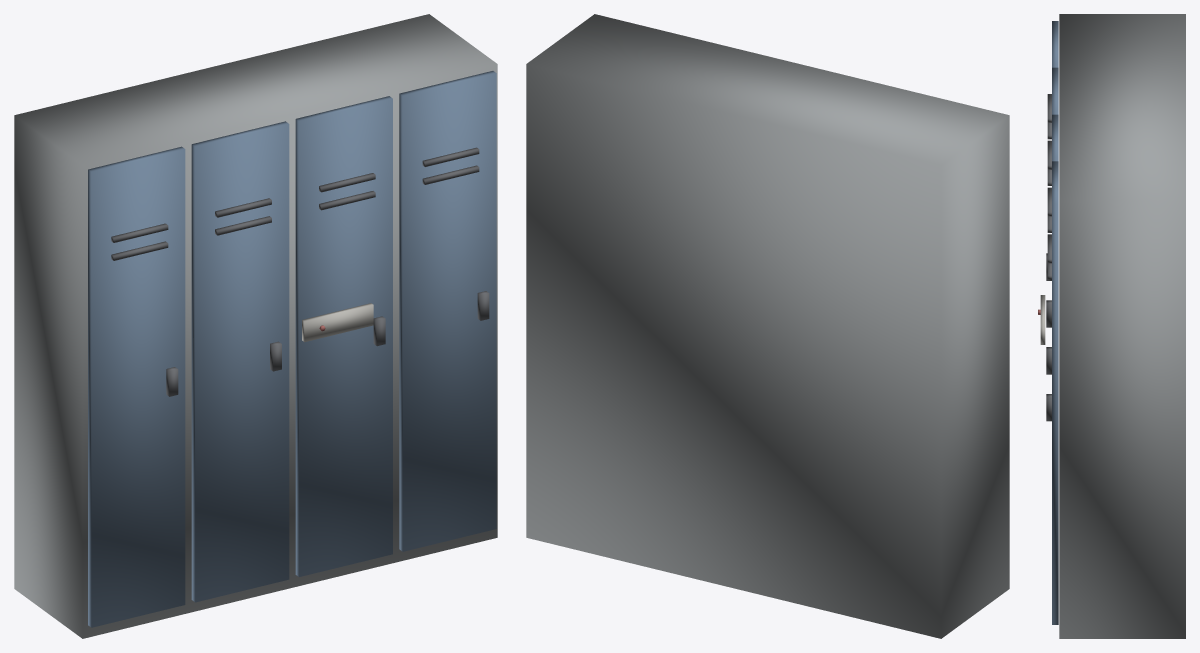
The model's file is property_locker_bank__reinforced.glb.
The picture shows the model from 3 angles, left to right: view 1: azimuth 30°, elevation 25°; view 2: azimuth 150°, elevation 25°; view 3: azimuth 270°, elevation 25°; orthographic projection. The views are drawn at different scales.
Visible parts, largest first — view 1: world; view 2: world; view 3: world.
Part boxes in pixels (bbox=[...]): world: bbox=[14, 14, 497, 638]; world: bbox=[526, 14, 1009, 638]; world: bbox=[1038, 14, 1185, 638].
Bounding box in the file's own units: 1.73 × 1.89 × 0.5778.
